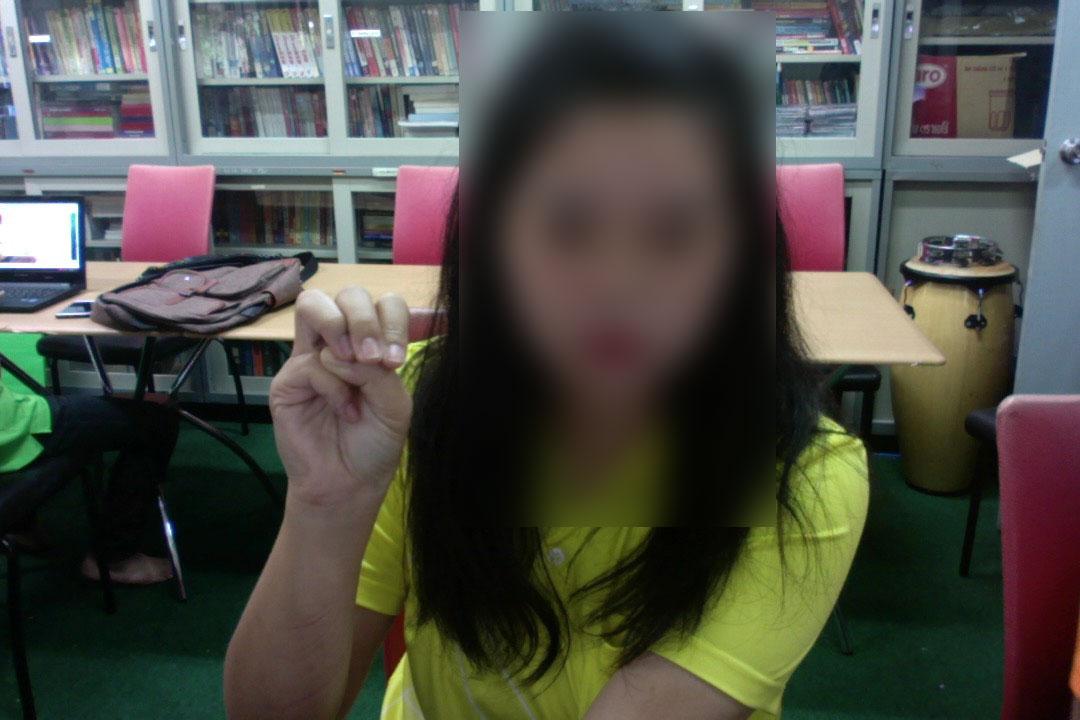mor: (265, 268, 419, 512)
